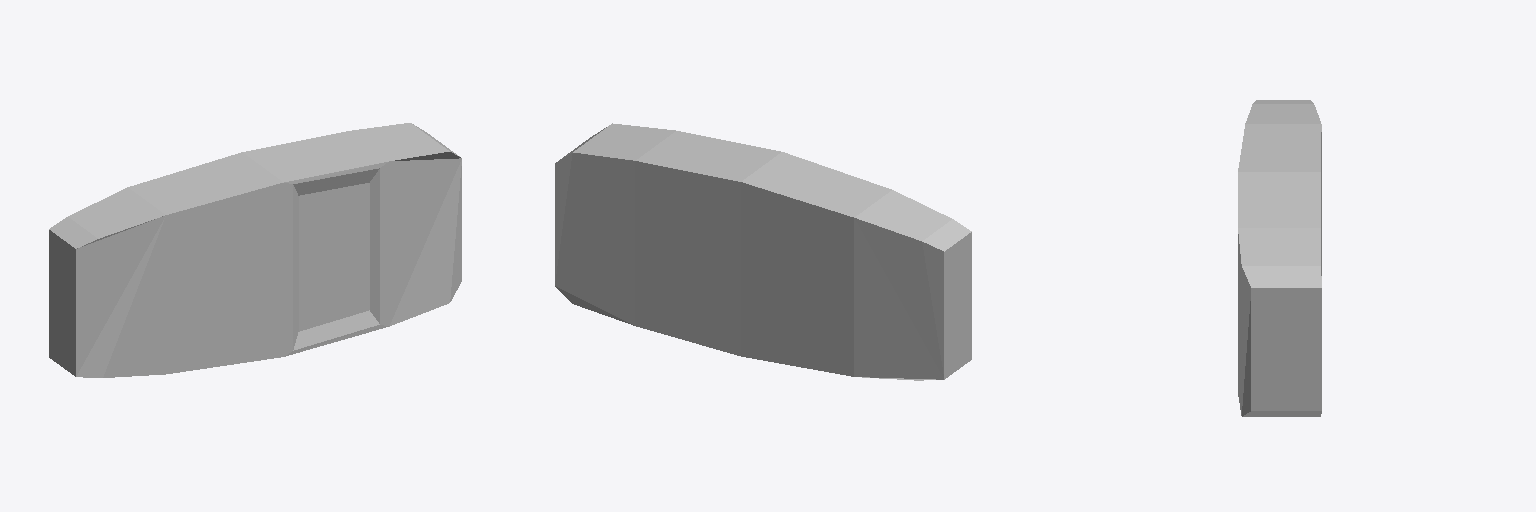
Rendered from Shit_Cellular.obj.
3 renders of one model, left to right at view 1: azimuth 30°, elevation 25°; view 2: azimuth 150°, elevation 25°; view 3: azimuth 270°, elevation 25°, orthographic.
Parts seen in each view (by area): view 1: Shitty_Cellular; view 2: Shitty_Cellular; view 3: Shitty_Cellular.
Boxes of the visible parts, box(x1,y1,x2,y2) form: Shitty_Cellular: box(49, 123, 461, 377); Shitty_Cellular: box(555, 123, 971, 380); Shitty_Cellular: box(1238, 100, 1321, 416).
Bounding box in the file's own units: 32.11 × 13.96 × 6.14.